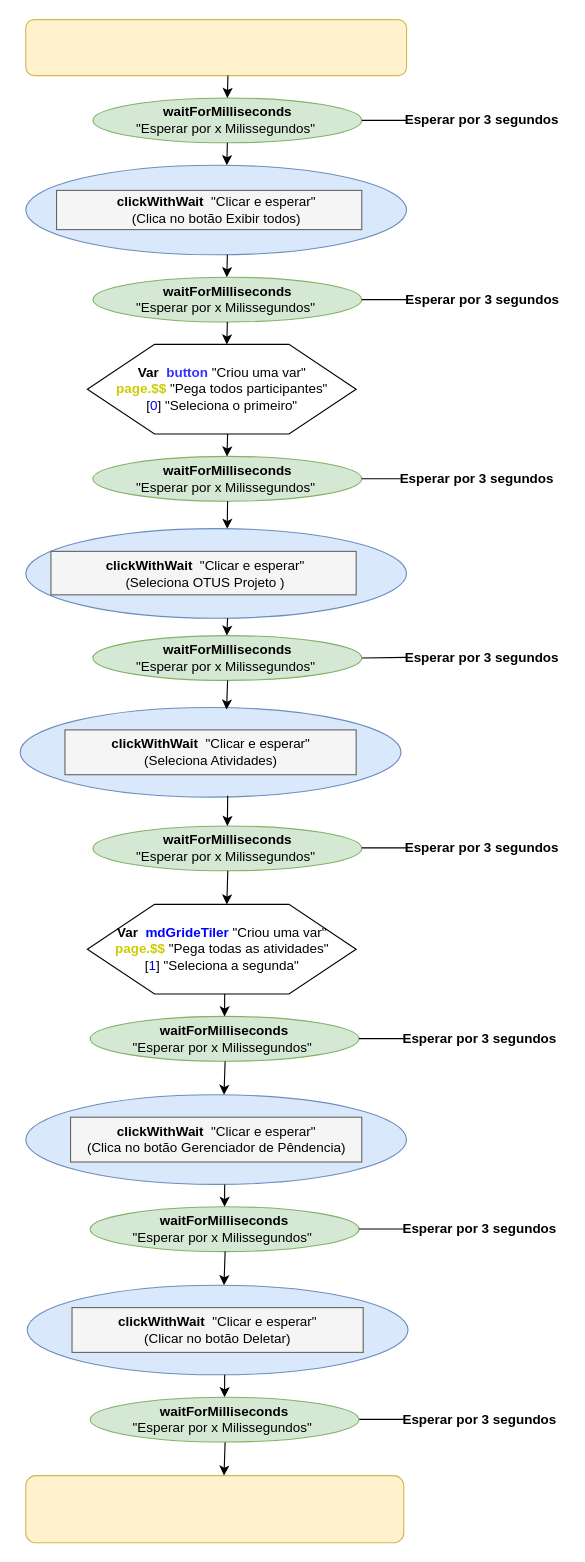
Image size: 585x1562. Some labels were removed from this diagram. The shapes that lost their labels are listed below. From the top down, each one's centre as x and y in pixels, then its label:
[216,47]: ABRE PÁGINA OTUS waitForMilliseconds "Esperar por milisegundos"
[214,1508]: FECHA PÁGINA OTUS
